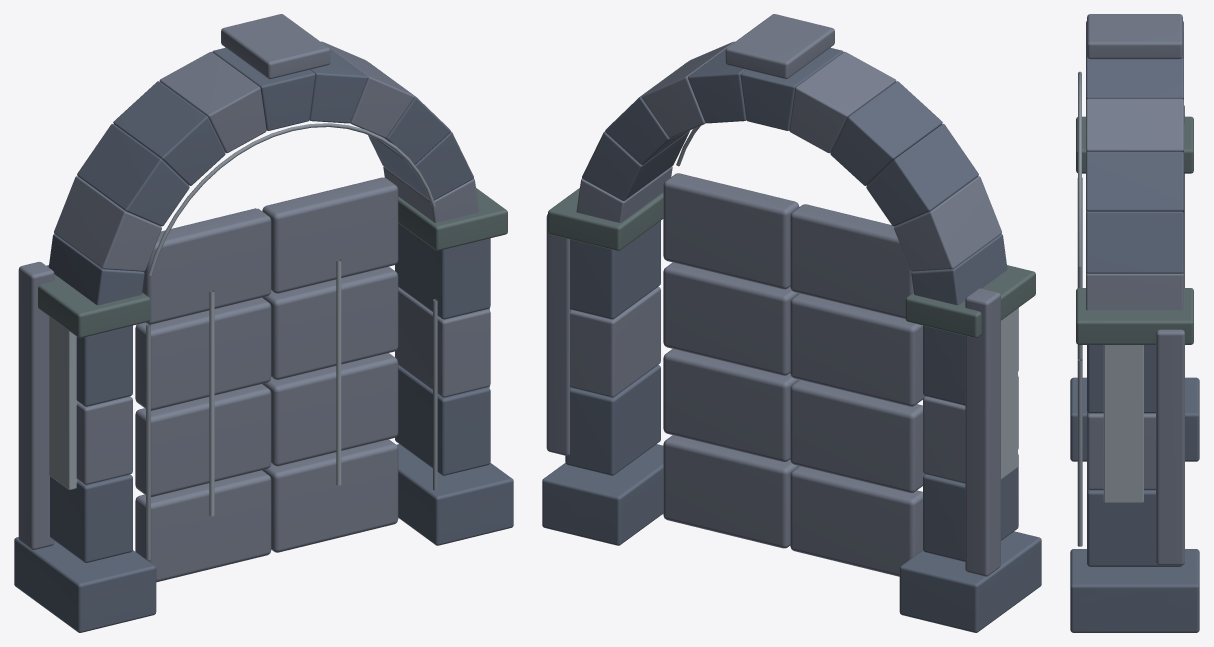
The model's file is BG_MEC_INNER_GATE_001.glb.
The picture shows the model from 3 angles, left to right: view 1: azimuth 30°, elevation 25°; view 2: azimuth 150°, elevation 25°; view 3: azimuth 270°, elevation 25°; orthographic projection.
Visible parts, largest first — view 1: Moving leaf segment 3.001, Moving leaf segment 1, Moving leaf segment 2, Moving leaf segment 0.001, Moving leaf segment 0, Moving leaf segment 3, Moving leaf segment 1.001, Moving leaf segment 2.001, Dressed frame foot -1, Rear stepped frame -1, Dressed frame foot 1, Frame pier 1 1 (+25 smaller); view 2: Moving leaf segment 3.001, Moving leaf segment 1, Moving leaf segment 2, Moving leaf segment 0.001, Moving leaf segment 2.001, Moving leaf segment 1.001, Moving leaf segment 0, Moving leaf segment 3, Rear stepped frame -1, Dressed frame foot -1, Dressed frame foot 1, Frame pier 1 0 (+21 smaller); view 3: Dressed frame foot 1, Rear stepped frame 1, Cold interrupted frame 1, Frame vault 1, Frame vault 2, Frame vault 3, Frame pier 1 0, Displaced crown, Frame impost 1, Frame vault 4, Frame vault 0, Dressed frame foot -1 (+6 smaller).
Part boxes in pixels (box(x1,y1,x2,y2)): Moving leaf segment 3.001: box(262, 177, 398, 293); Moving leaf segment 1: box(135, 384, 271, 497); Moving leaf segment 2: box(135, 297, 271, 410); Moving leaf segment 0.001: box(262, 439, 398, 552); Moving leaf segment 0: box(135, 470, 271, 582); Moving leaf segment 3: box(142, 208, 271, 324); Moving leaf segment 1.001: box(262, 353, 398, 466); Moving leaf segment 2.001: box(262, 266, 398, 379); Dressed frame foot -1: box(14, 537, 156, 632); Rear stepped frame -1: box(18, 262, 54, 549); Dressed frame foot 1: box(396, 444, 513, 545); Frame pier 1 1: box(395, 287, 490, 397); Moving leaf segment 3.001: box(663, 173, 799, 289); Moving leaf segment 1: box(790, 380, 925, 492); Moving leaf segment 2: box(790, 293, 925, 406); Moving leaf segment 0.001: box(663, 435, 798, 548); Moving leaf segment 2.001: box(663, 262, 798, 375); Moving leaf segment 1.001: box(663, 349, 798, 461); Moving leaf segment 0: box(790, 466, 922, 576); Moving leaf segment 3: box(790, 204, 913, 318); Rear stepped frame -1: box(965, 288, 1000, 576); Dressed frame foot -1: box(899, 531, 1041, 632); Dressed frame foot 1: box(542, 444, 663, 545); Frame pier 1 0: box(565, 365, 660, 475); Dressed frame foot 1: box(1070, 549, 1199, 632); Rear stepped frame 1: box(1156, 329, 1184, 565); Cold interrupted frame 1: box(1103, 345, 1143, 502); Frame vault 1: box(1086, 211, 1183, 273); Frame vault 2: box(1086, 151, 1183, 212); Frame vault 3: box(1086, 98, 1183, 152); Frame pier 1 0: box(1087, 487, 1181, 566); Displaced crown: box(1087, 14, 1182, 59); Frame impost 1: box(1076, 288, 1193, 344); Frame vault 4: box(1086, 57, 1183, 99); Frame vault 0: box(1086, 272, 1183, 310); Dressed frame foot -1: box(1070, 377, 1199, 461).
Size of the model in its own units: 2.25 by 2.51 by 0.58.
5 materials, 1 textured.
